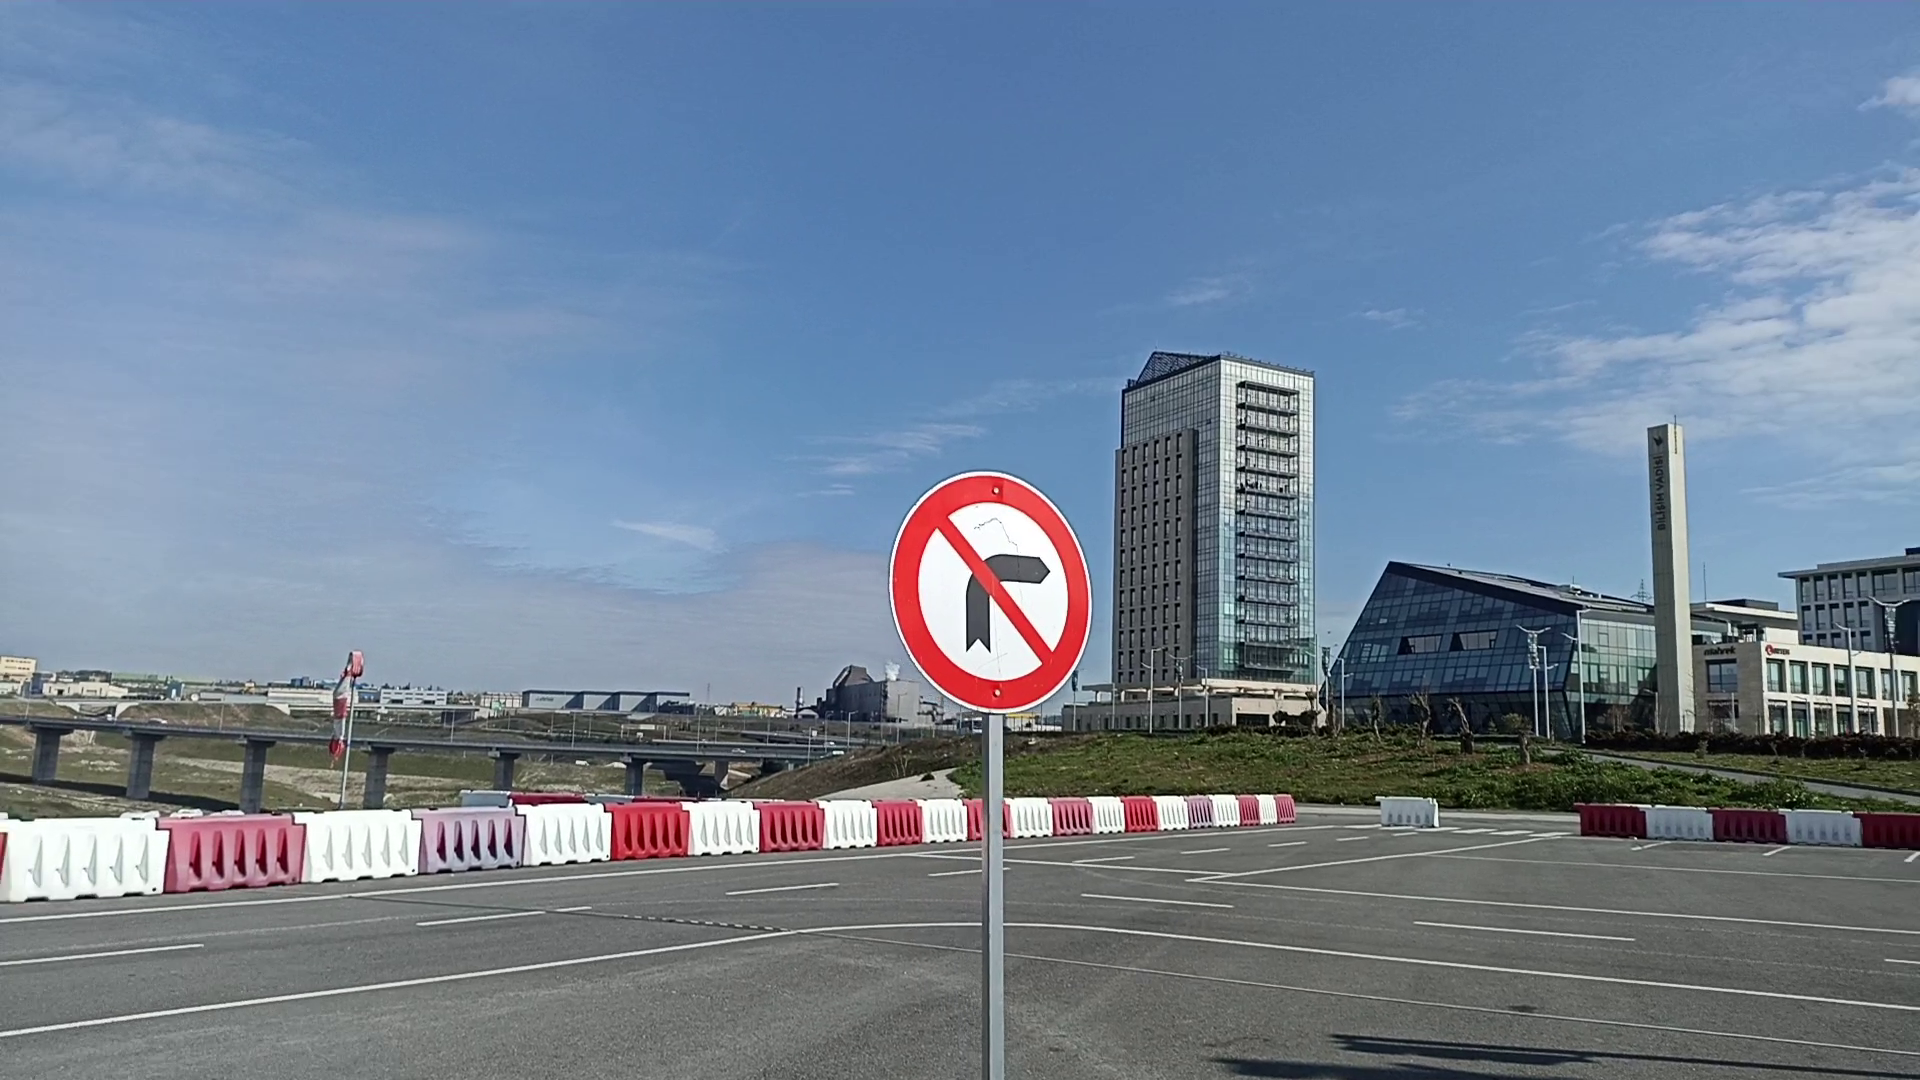noleftturn: (884, 465, 1096, 717)
